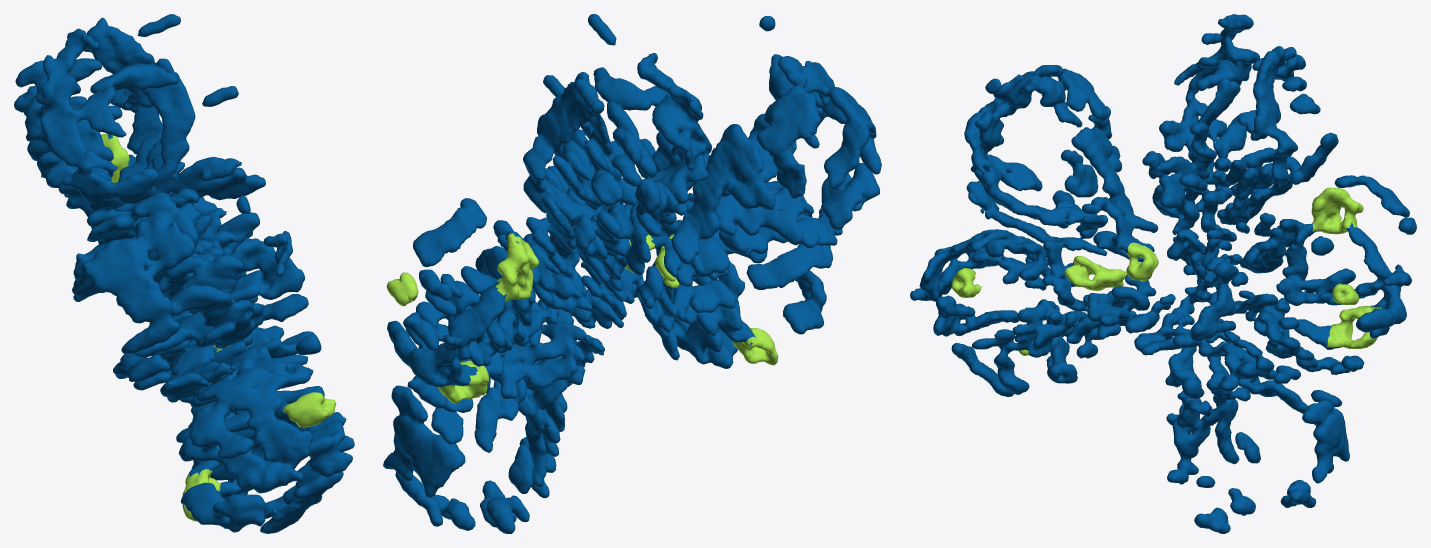
Rendered from 300_24_live_donut_highlighted.glb.
The picture shows the model from 3 angles, left to right: view 1: azimuth 30°, elevation 25°; view 2: azimuth 150°, elevation 25°; view 3: azimuth 270°, elevation 25°; orthographic projection. The views are drawn at different scales.
Parts seen in each view (by area): view 1: 24HR_300cis_timelapse_z; view 2: 24HR_300cis_timelapse_z; view 3: 24HR_300cis_timelapse_z.
Part boxes in pixels (x1,y1,x2,y2): 24HR_300cis_timelapse_z: (14,14,354,533); 24HR_300cis_timelapse_z: (383,14,881,533); 24HR_300cis_timelapse_z: (910,14,1416,533).
Bounding box in the file's own units: 15.29 × 23.09 × 23.01.
